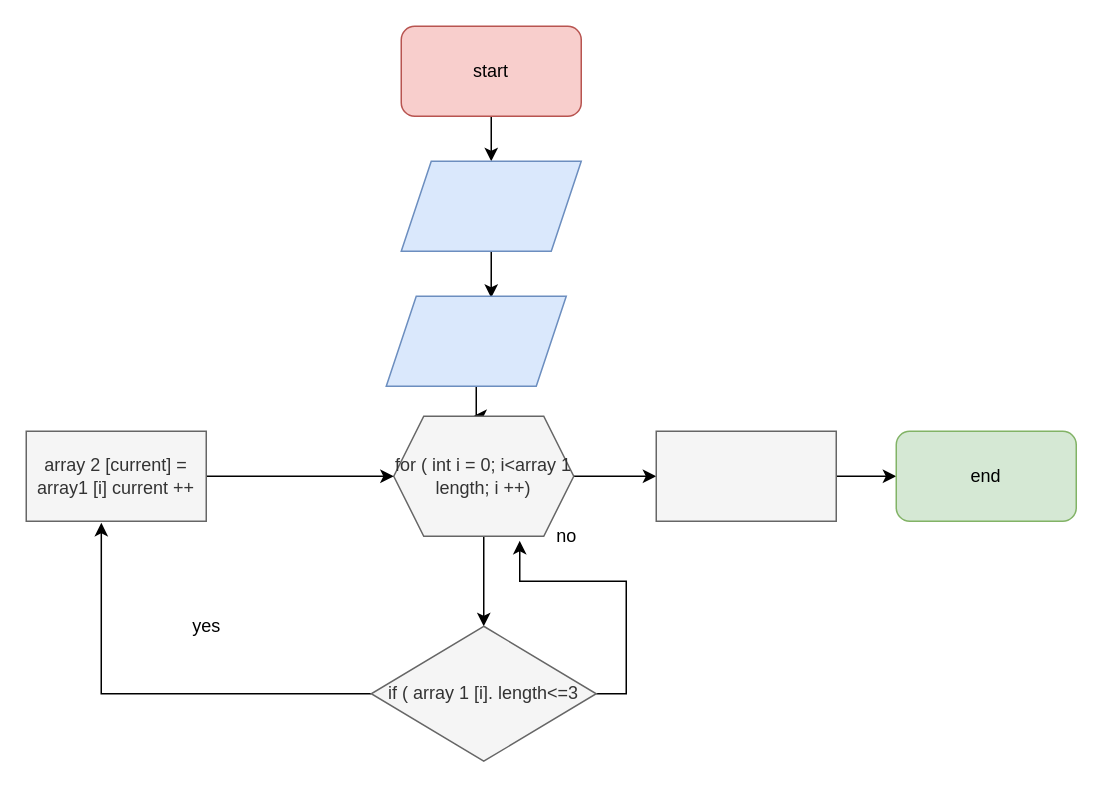
This 1103x788 diagram has some shape labels left out. Here are the shapes that lost their labels. From the top down, the centre of each, then its label:
pixel 490 205: NewArray
pixel 475 340: string[] array 1 string array 2 int current = 0
pixel 745 475: print
